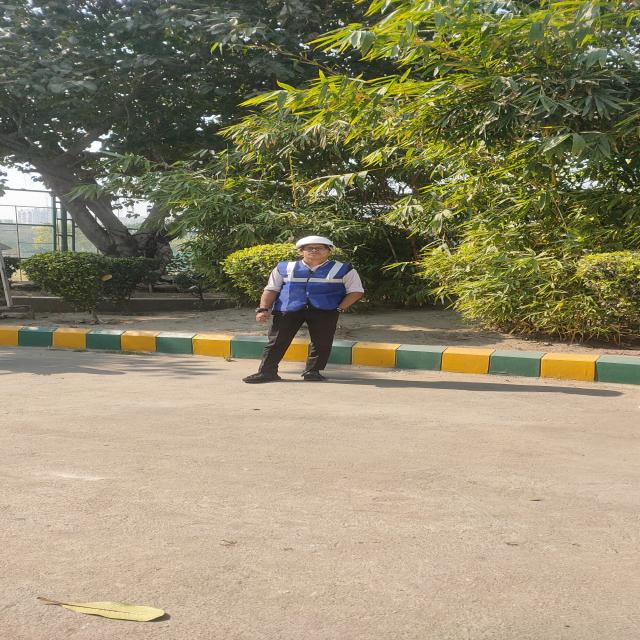safe: (244, 236, 363, 382)
